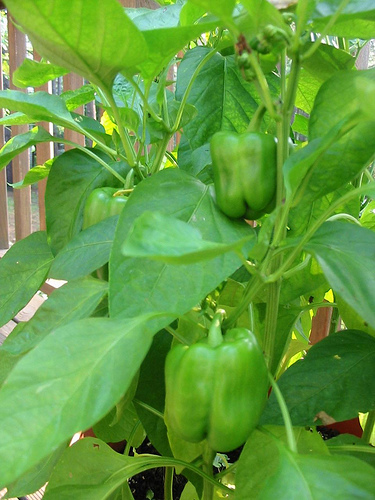capsicum: (162, 321, 267, 455), (211, 128, 278, 222)
